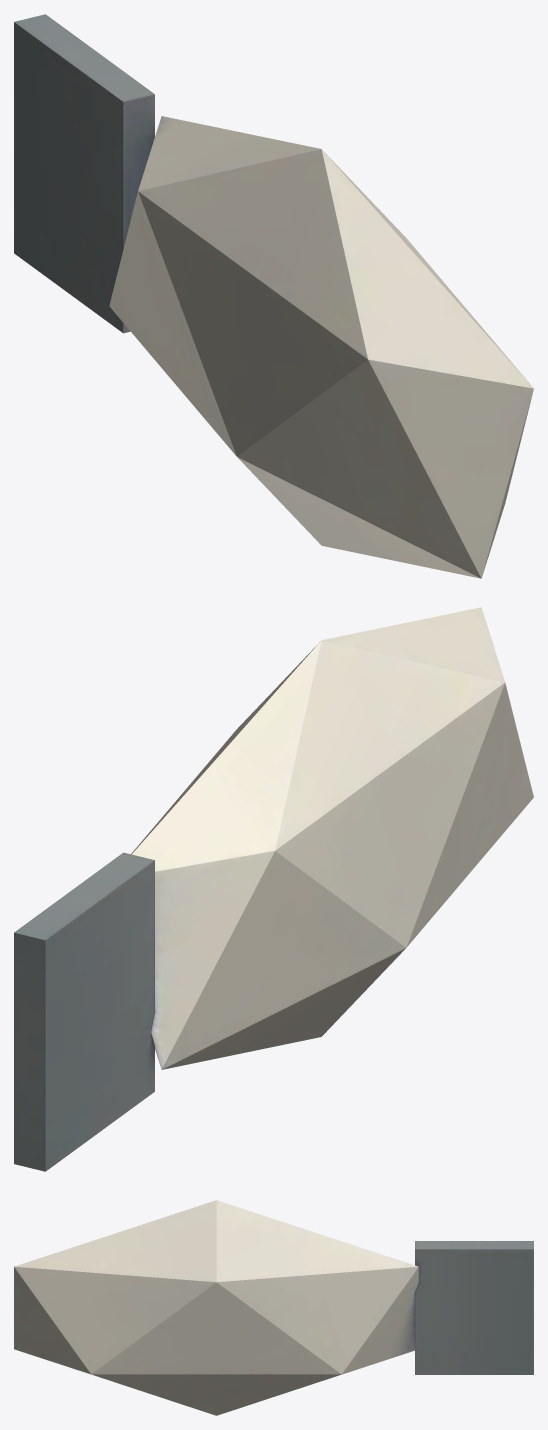
Rendered from life-fish.glb.
3 views of the same model, one above another, from view 1: azimuth 30°, elevation 25°; view 2: azimuth 150°, elevation 25°; view 3: azimuth 270°, elevation 25° (orthographic). The views are drawn at different scales.
Parts seen in each view (by area): view 1: life-fish; view 2: life-fish; view 3: life-fish.
Part boxes in pixels (x1=…): life-fish: x1=14, y1=14, x2=533, y2=578; life-fish: x1=14, y1=607, x2=533, y2=1171; life-fish: x1=14, y1=1200, x2=533, y2=1415.
Size of the model in its own units: 0.0107 by 0.024 by 0.0524.
Materials: 1 (1 with a texture image).
